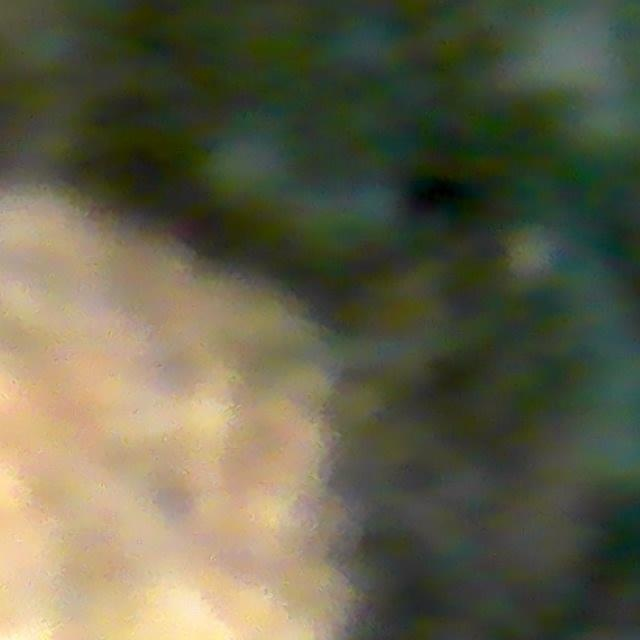SeaGrape: (200, 123, 296, 213)
